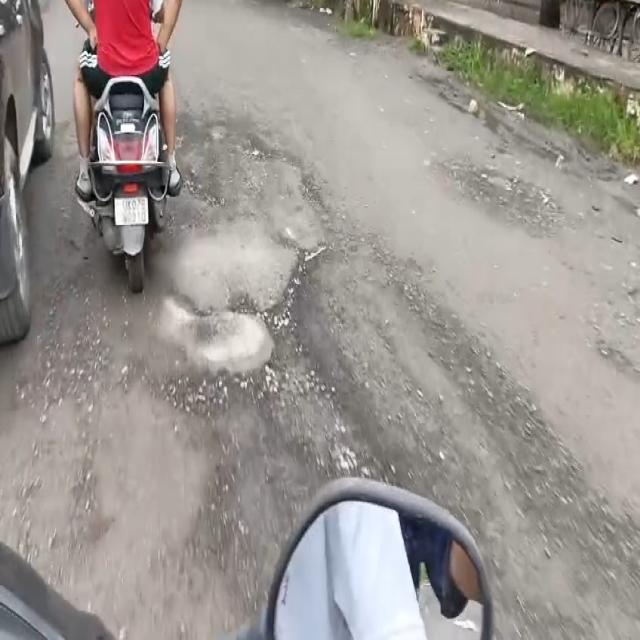road-pothole: (259, 233, 536, 532), (162, 111, 317, 317), (434, 160, 561, 245)
